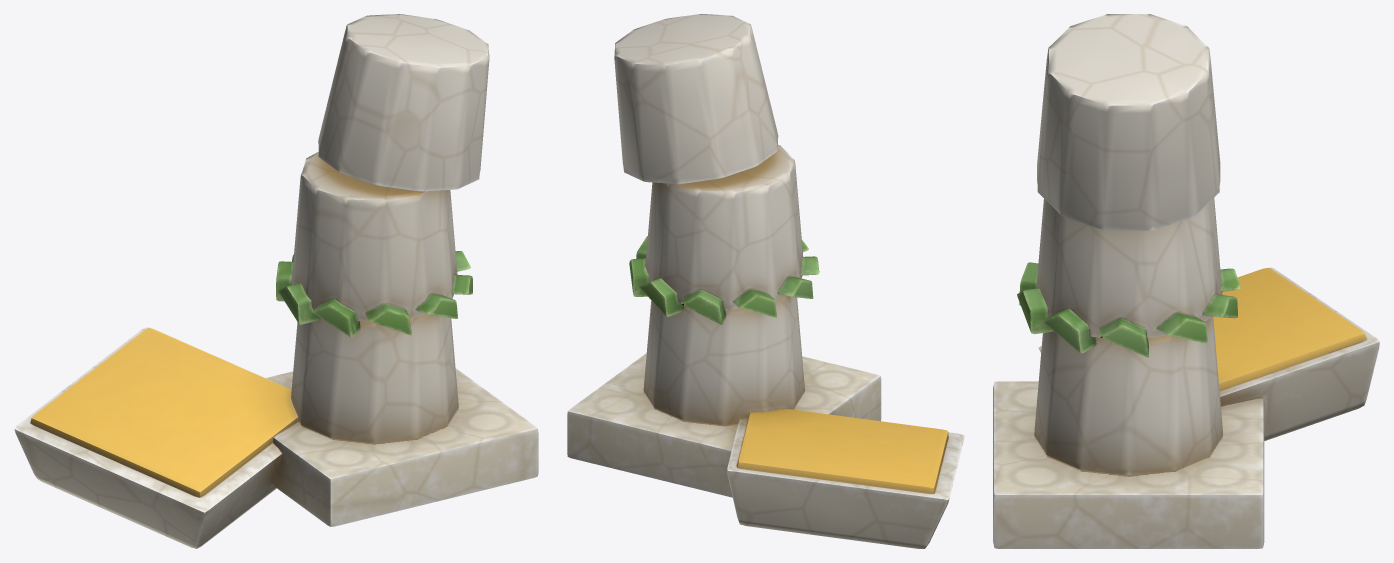
File: Divin_Colonne.fbx
The picture shows the model from 3 angles, left to right: view 1: azimuth 30°, elevation 25°; view 2: azimuth 150°, elevation 25°; view 3: azimuth 270°, elevation 25°; orthographic projection. The views are drawn at different scales.
Parts seen in each view (by area): view 1: Divin_Colonne; view 2: Divin_Colonne; view 3: Divin_Colonne.
Boxes of the visible parts, left/top/right/bottom form: Divin_Colonne: left=14, top=14, right=538, bottom=548; Divin_Colonne: left=567, top=14, right=964, bottom=548; Divin_Colonne: left=993, top=14, right=1379, bottom=548.
Bounding box in the file's own units: 843 × 890 × 627.
Materials: 1 (1 with a texture image).
